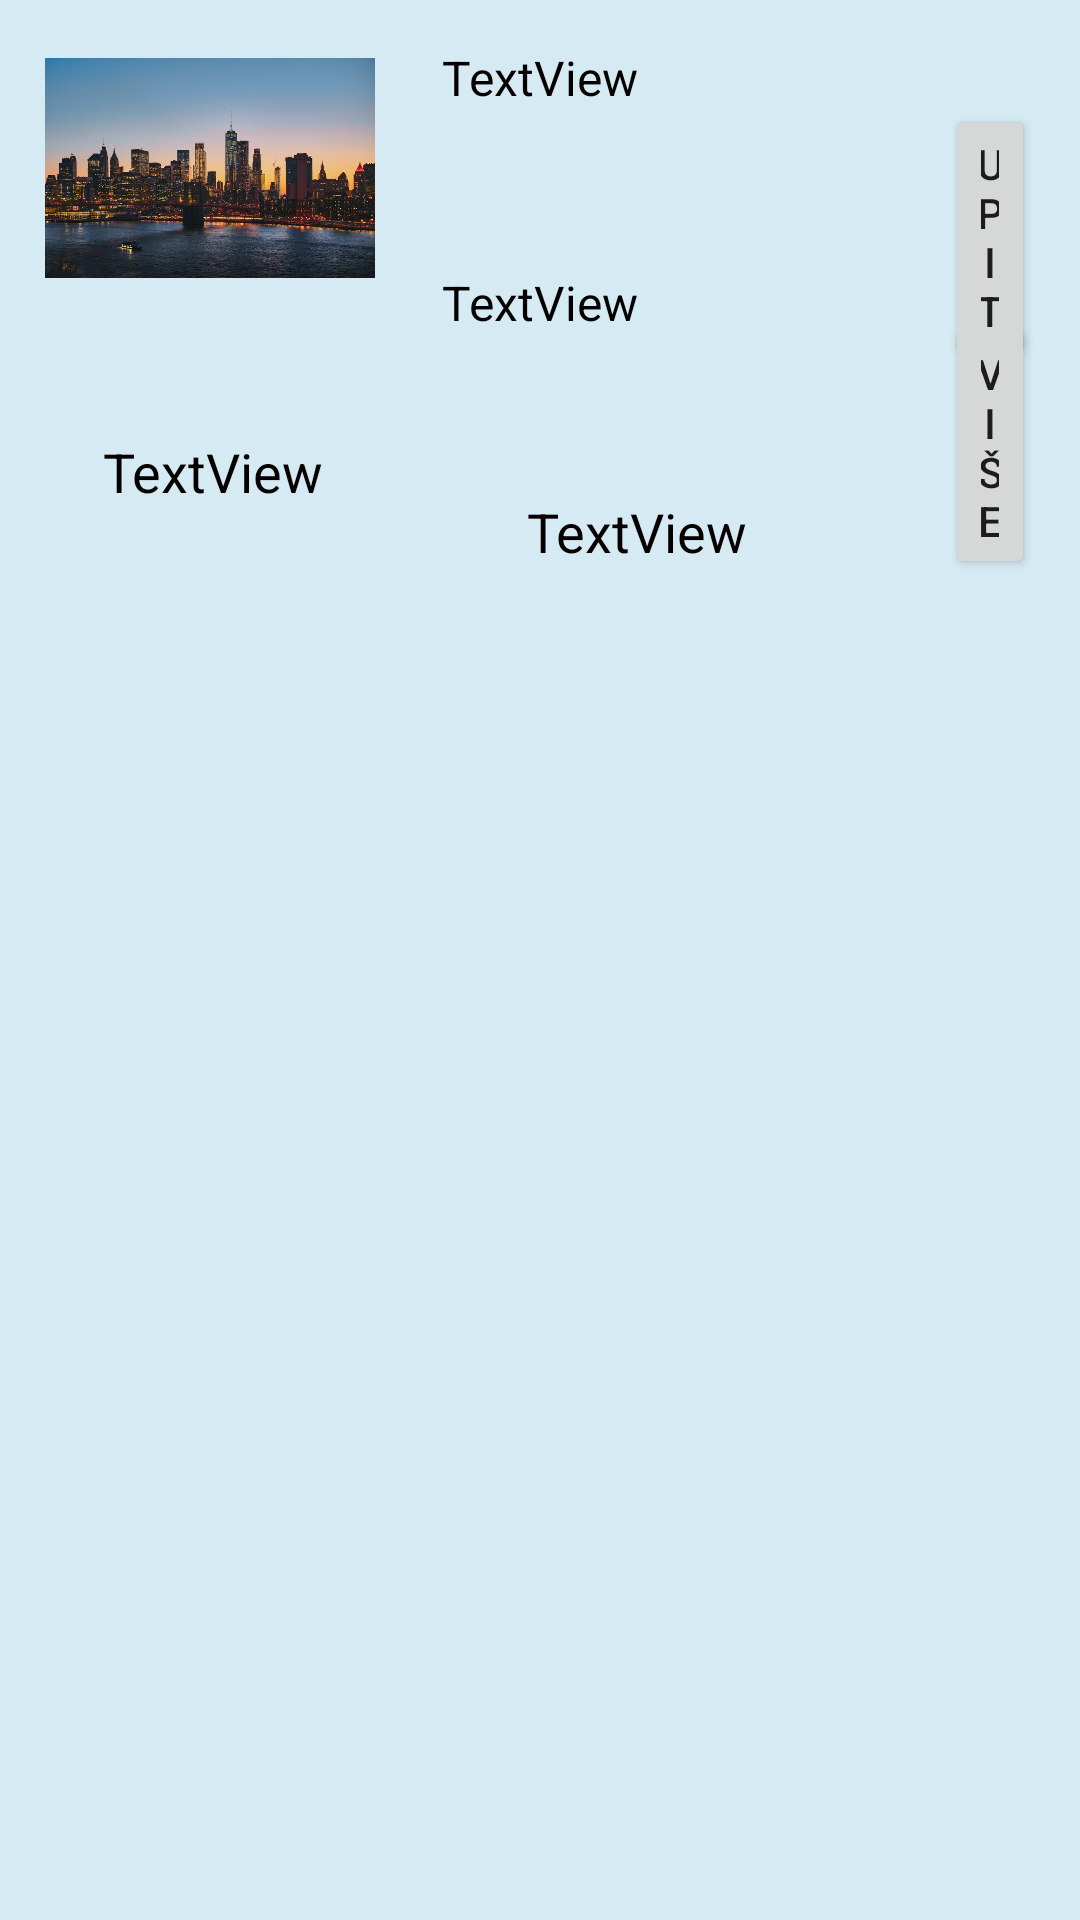

Icon click points for this 1080×1920 phone screenshot, format (x,y):
rsz slika: (210,168)
